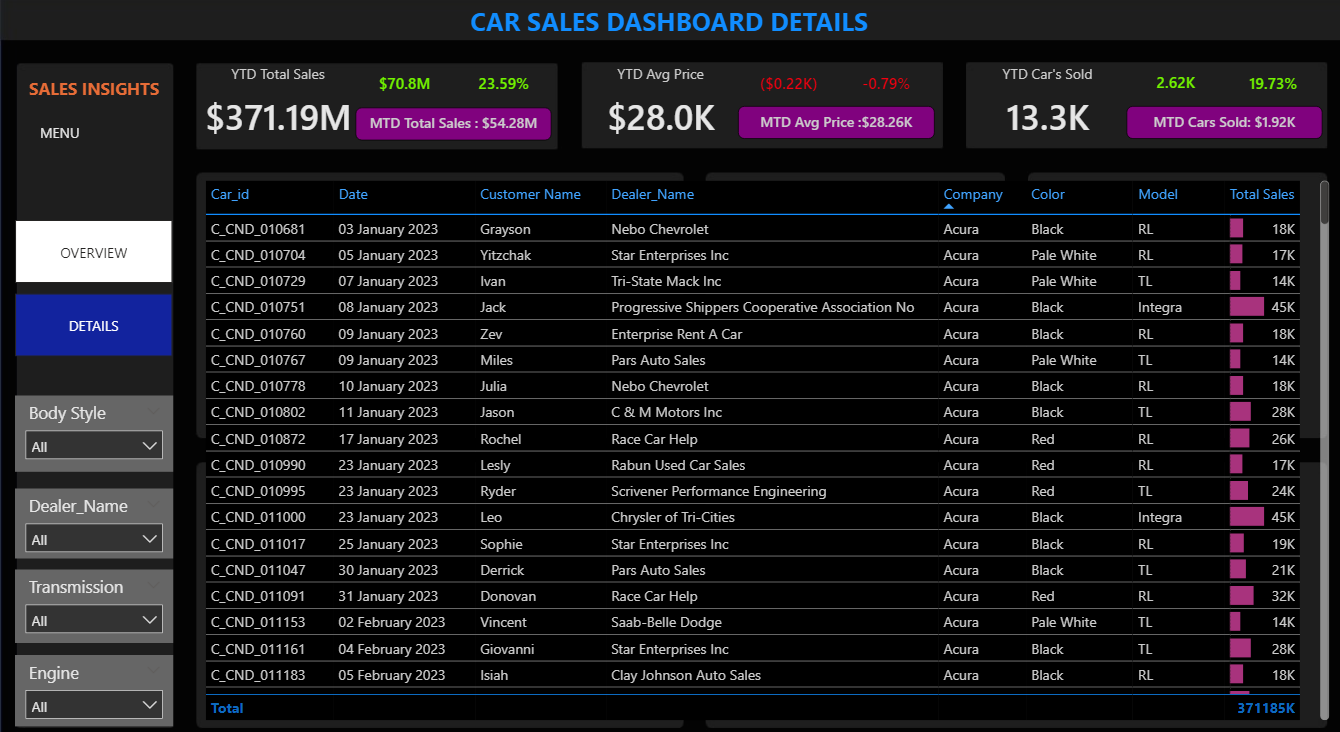

The page's visual inventory and layout, read from the dashboard file:
{"tool":"powerbi","page":{"name":"DETAILS","canvas":[1280,720],"ordinal":1},"visuals":[{"type":"card","title":" YTD Total Sales ","fields":{"Values":["car_data.YTD TOTAL SALES"]},"box":[189.4,63.1,149.6,82.3],"z":0},{"type":"card","fields":{"Values":["car_data.Sales Difference"]},"box":[338.9,63.1,93.3,41.2],"z":1000},{"type":"card","fields":{"Values":["car_data.YOY Sales Growth"]},"box":[432.2,63.1,93.3,41.2],"z":2000},{"type":"card","fields":{"Values":["car_data.MTD KPI"]},"box":[338.9,104.3,186.6,31.6],"z":3000},{"type":"card","title":" YTD Avg Price","fields":{"Values":["car_data.YTD AVERAGE PRICE"]},"box":[554.4,63.1,149.6,82.3],"z":4000},{"type":"card","fields":{"Values":["car_data.avg price diff"]},"box":[703.9,63.1,93.3,41.2],"z":5000},{"type":"card","fields":{"Values":["car_data.Yoy Avg price growth"]},"box":[797.3,63.1,93.3,41.2],"z":6000},{"type":"card","fields":{"Values":["car_data.MTD Avg Price Kpi"]},"box":[703.3,102.9,187.1,31.2],"z":7000},{"type":"card","title":" YTD Car''s Sold","fields":{"Values":["car_data.YTD Car Sold"]},"box":[923.5,63.1,149.6,82.3],"z":8000},{"type":"card","fields":{"Values":["car_data.Cars sold diff"]},"box":[1073.1,61.7,93.3,41.2],"z":9000},{"type":"card","fields":{"Values":["car_data.YoY car sold growth"]},"box":[1166.4,63.1,93.3,41.2],"z":10000},{"type":"card","fields":{"Values":["car_data.MTD Cars Sold KPI"]},"box":[1073.1,102.9,186.6,31.6],"z":11000},{"type":"slicer","fields":{"Values":["car_data.Body Style"]},"box":[14.2,378.3,150.8,72.5],"z":12000},{"type":"slicer","fields":{"Values":["car_data.Dealer_Name"]},"box":[14.2,466.5,150.8,66.8],"z":13000},{"type":"slicer","fields":{"Values":["car_data.Transmission"]},"box":[14.2,544.7,150.8,69.7],"z":14000},{"type":"slicer","fields":{"Values":["car_data.Engine"]},"box":[14.2,625.8,150.8,68.3],"z":15000},{"type":"tableEx","fields":{"Values":["car_data.Car_id","car_data.Date","car_data.Customer Name","car_data.Dealer_Name","car_data (2).Company","car_data.Color","car_data.Model","car_data.Price ($)"]},"box":[189.4,168.8,1081.3,524.2],"z":16000},{"type":"textbox","box":[442.3,0,522,149.3],"z":17000},{"type":"textbox","box":[14.2,69.7,150.8,32.7],"z":18000},{"type":"textbox","box":[14.2,112.4,85.3,32.7],"z":19000},{"type":"pageNavigator","box":[14.2,211.9,150.8,130.8],"z":20000}]}

Visuals, with their boxes on the page's 1280x720 design canvas (x1, y1, x2, y2). These are canvas units, not pixel positions in the 1340x732 screenshot, which may show the page scaled, cropped or inside an application window:
" YTD Total Sales " card: pyautogui.locateOnScreen(189, 63, 339, 145)
card - car_data.Sales Difference: pyautogui.locateOnScreen(339, 63, 432, 104)
card - car_data.YOY Sales Growth: pyautogui.locateOnScreen(432, 63, 526, 104)
card - car_data.MTD KPI: pyautogui.locateOnScreen(339, 104, 526, 136)
" YTD Avg Price" card: pyautogui.locateOnScreen(554, 63, 704, 145)
card - car_data.avg price diff: pyautogui.locateOnScreen(704, 63, 797, 104)
card - car_data.Yoy Avg price growth: pyautogui.locateOnScreen(797, 63, 891, 104)
card - car_data.MTD Avg Price Kpi: pyautogui.locateOnScreen(703, 103, 890, 134)
" YTD Car''s Sold" card: pyautogui.locateOnScreen(924, 63, 1073, 145)
card - car_data.Cars sold diff: pyautogui.locateOnScreen(1073, 62, 1166, 103)
card - car_data.YoY car sold growth: pyautogui.locateOnScreen(1166, 63, 1260, 104)
card - car_data.MTD Cars Sold KPI: pyautogui.locateOnScreen(1073, 103, 1260, 134)
slicer - car_data.Body Style: pyautogui.locateOnScreen(14, 378, 165, 451)
slicer - car_data.Dealer_Name: pyautogui.locateOnScreen(14, 466, 165, 533)
slicer - car_data.Transmission: pyautogui.locateOnScreen(14, 545, 165, 614)
slicer - car_data.Engine: pyautogui.locateOnScreen(14, 626, 165, 694)
tableEx - car_data.Car_id x car_data.Date: pyautogui.locateOnScreen(189, 169, 1271, 693)
textbox: pyautogui.locateOnScreen(442, 0, 964, 149)
textbox: pyautogui.locateOnScreen(14, 70, 165, 102)
textbox: pyautogui.locateOnScreen(14, 112, 100, 145)
pageNavigator: pyautogui.locateOnScreen(14, 212, 165, 343)
